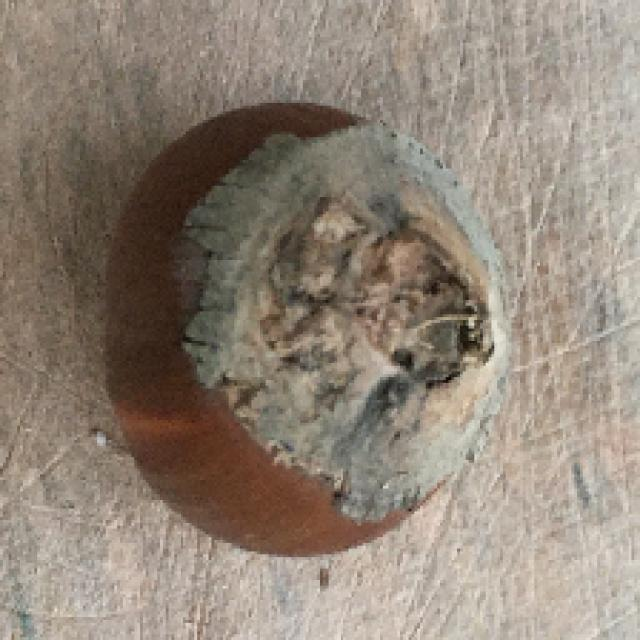DamagedHazelnut: (96, 105, 512, 554)
